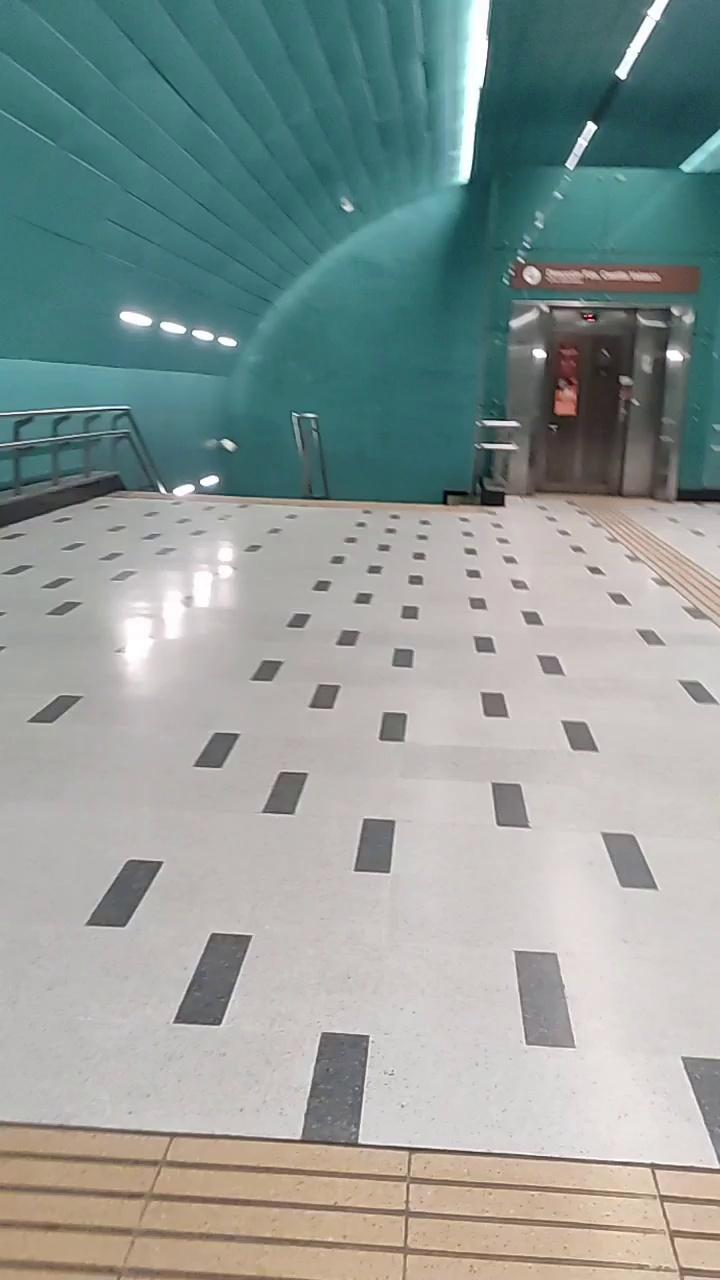down arrow: (521, 266, 540, 286)
